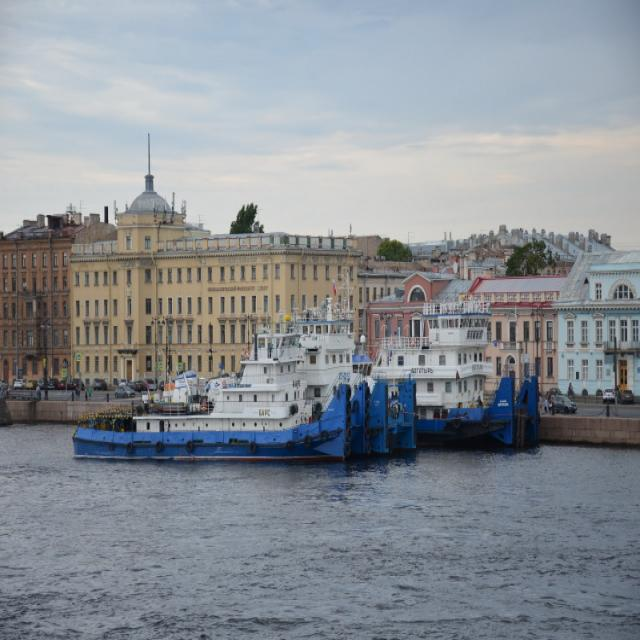tugboat: (69, 306, 372, 477)
